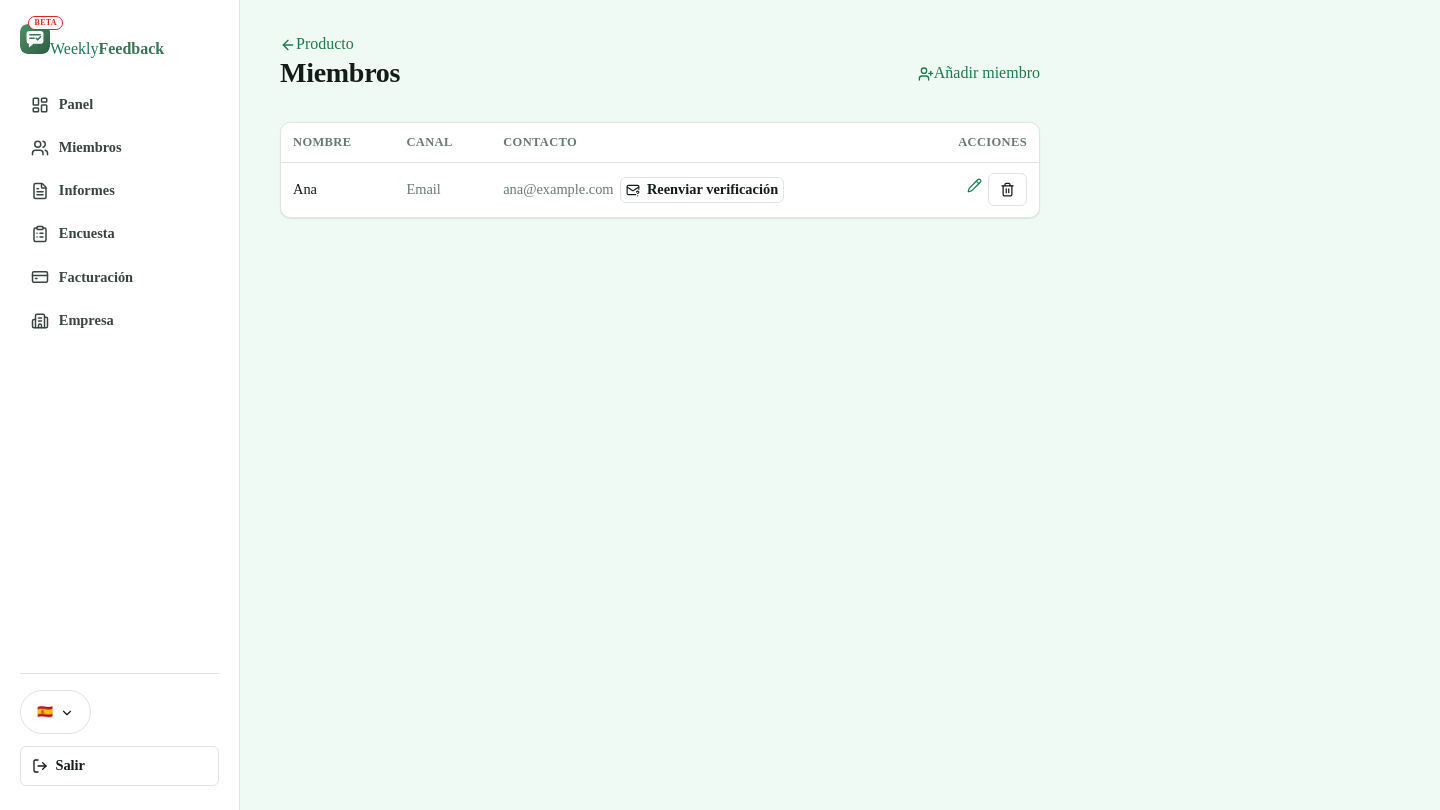
TeamMembersPage › fallo al reenviar: muestra el error, no cambia a "Enviado"
Click the button "Reenviar verificación" at (702, 190), box [620,177,784,203]
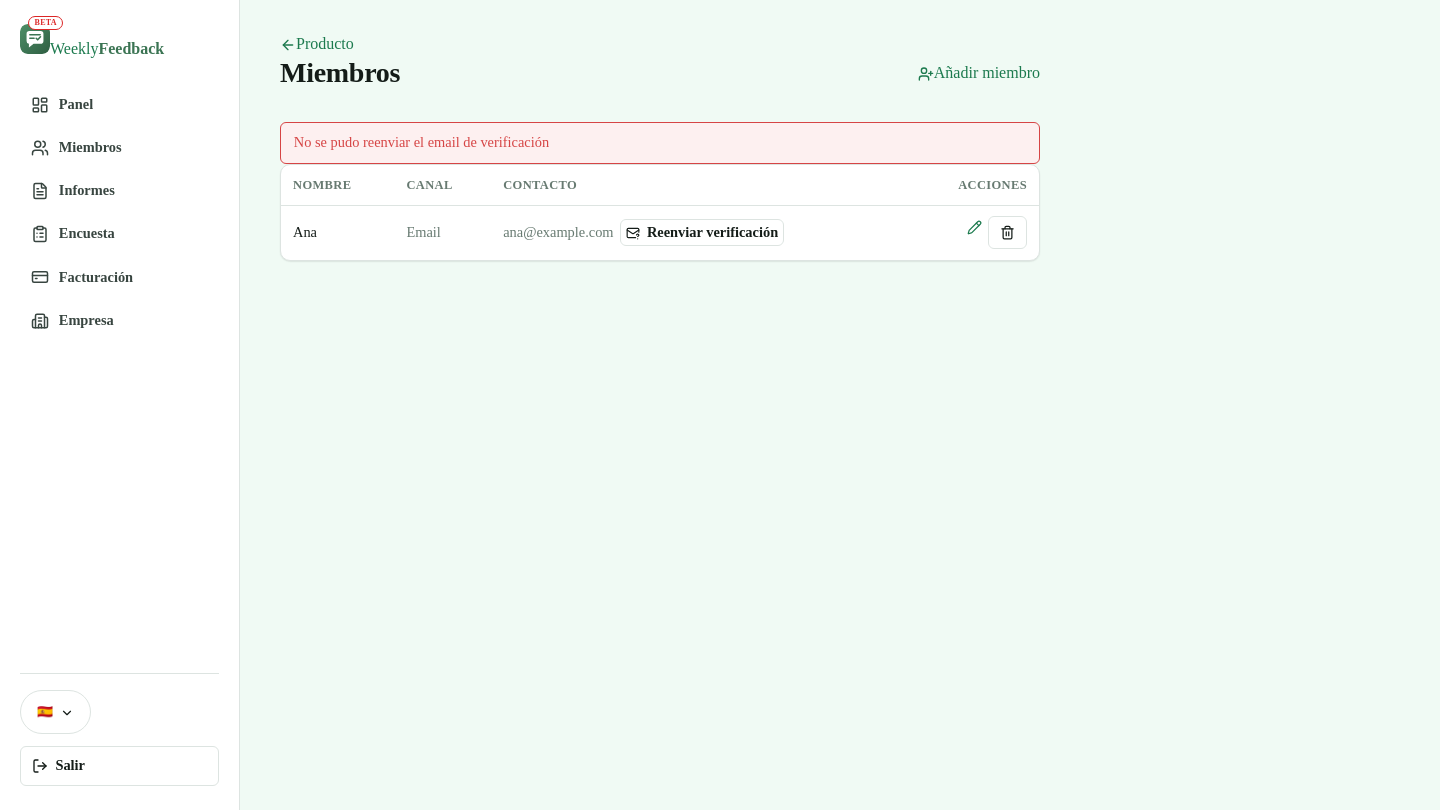
Result: the message reads "No se pudo reenviar el email de verificación" at [294,134,549,150]
